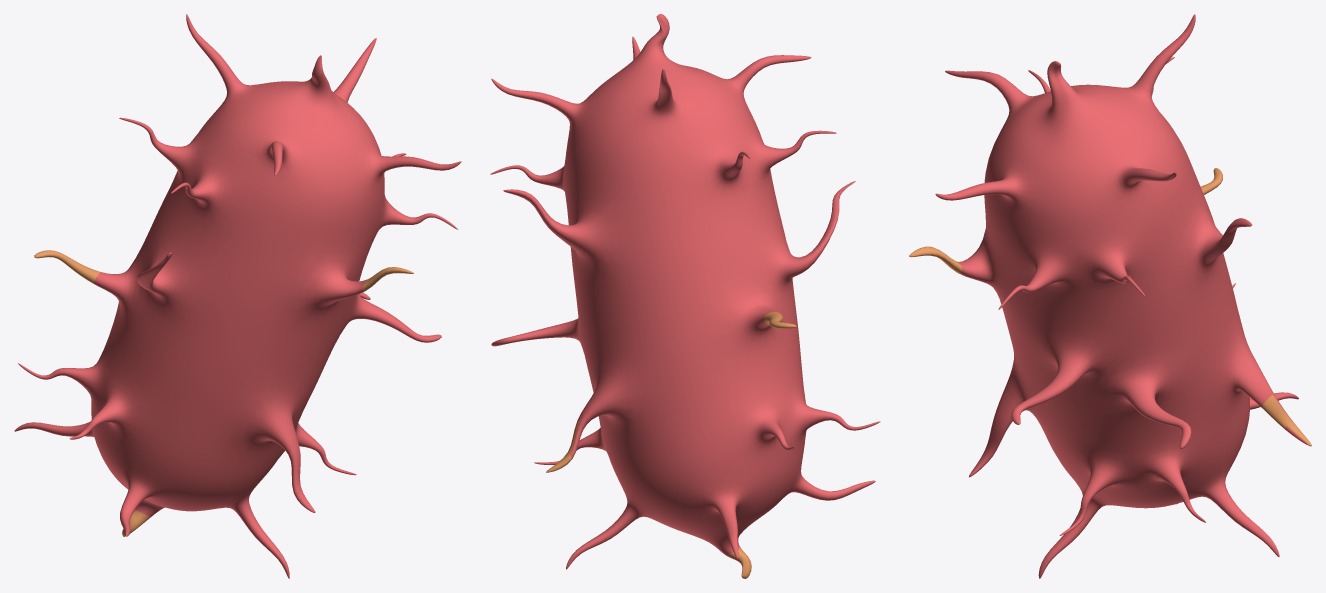
Rendered from microbe_3.fbx.
3 renders of one model, left to right at view 1: azimuth 30°, elevation 25°; view 2: azimuth 150°, elevation 25°; view 3: azimuth 270°, elevation 25°, orthographic. The views are drawn at different scales.
Visible parts, largest first — view 1: Cylinder; view 2: Cylinder; view 3: Cylinder.
Part boxes in pixels (left/top/right/bottom): Cylinder: left=14, top=14, right=461, bottom=578; Cylinder: left=490, top=14, right=880, bottom=578; Cylinder: left=909, top=14, right=1311, bottom=578.
Bounding box in the file's own units: 455 × 622 × 413.
